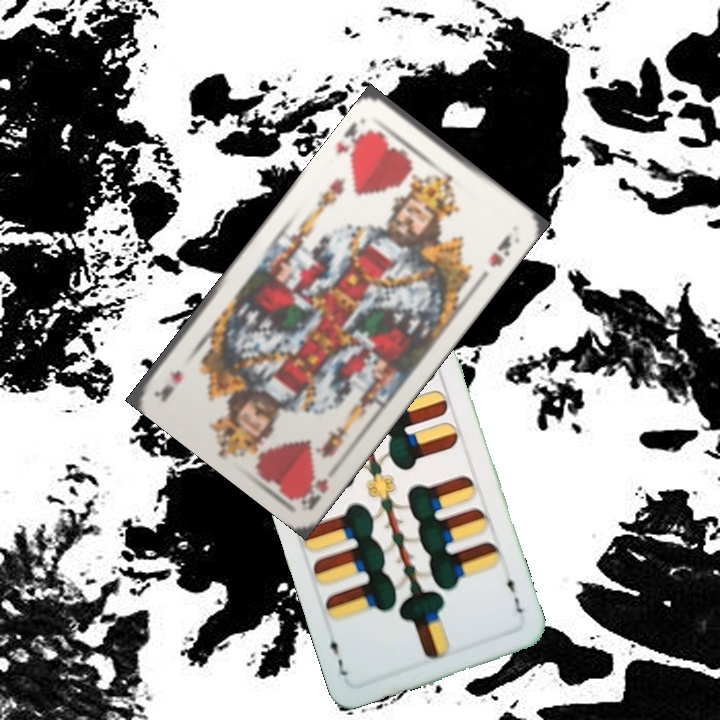E7: (502, 568, 528, 616)
HK: (331, 118, 376, 164), (294, 472, 331, 511)
